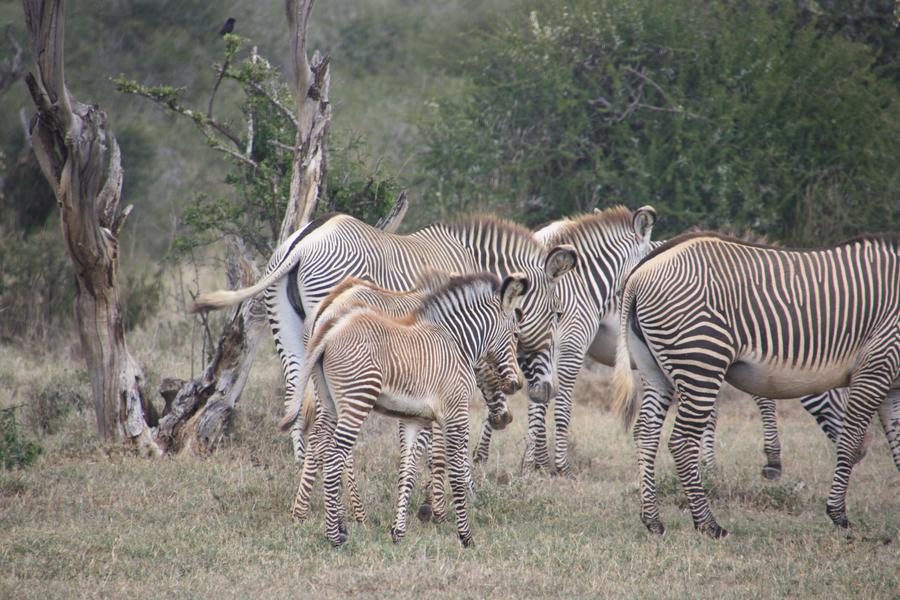zebra_grevys: (628, 220, 893, 385)
